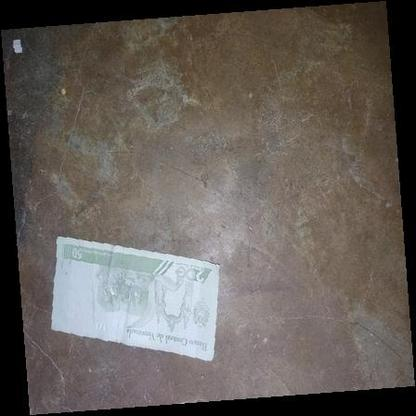fifty-back-vef: (50, 235, 220, 362)
